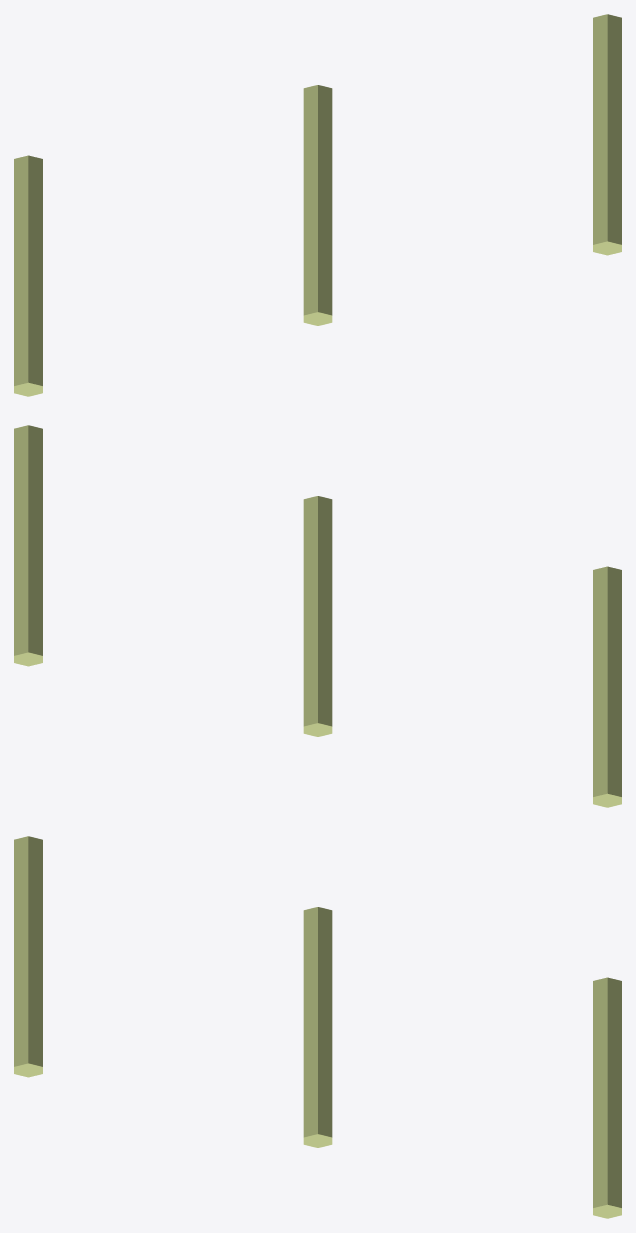
File: fencing_bambu.glb
3 renders of one model, top to bottom at view 1: azimuth 30°, elevation 25°; view 2: azimuth 150°, elevation 25°; view 3: azimuth 330°, elevation 25°, orthographic.
Parts seen in each view (by area): view 1: fencing_bambu; view 2: fencing_bambu; view 3: fencing_bambu.
Boxes of the visible parts, x1,y1,x2,y2 form: fencing_bambu: (14,14,621,396); fencing_bambu: (14,425,621,807); fencing_bambu: (14,836,621,1218).
Bounding box in the file's own units: 4.2 × 1.5 × 0.1732.
